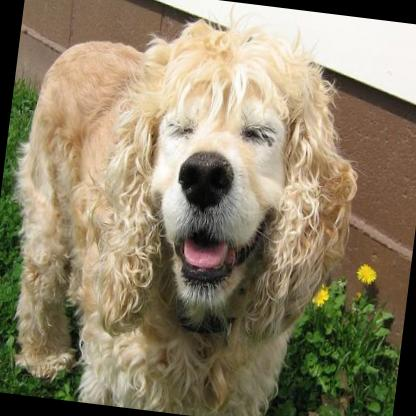cocker_spaniel: (0, 0, 386, 416)
